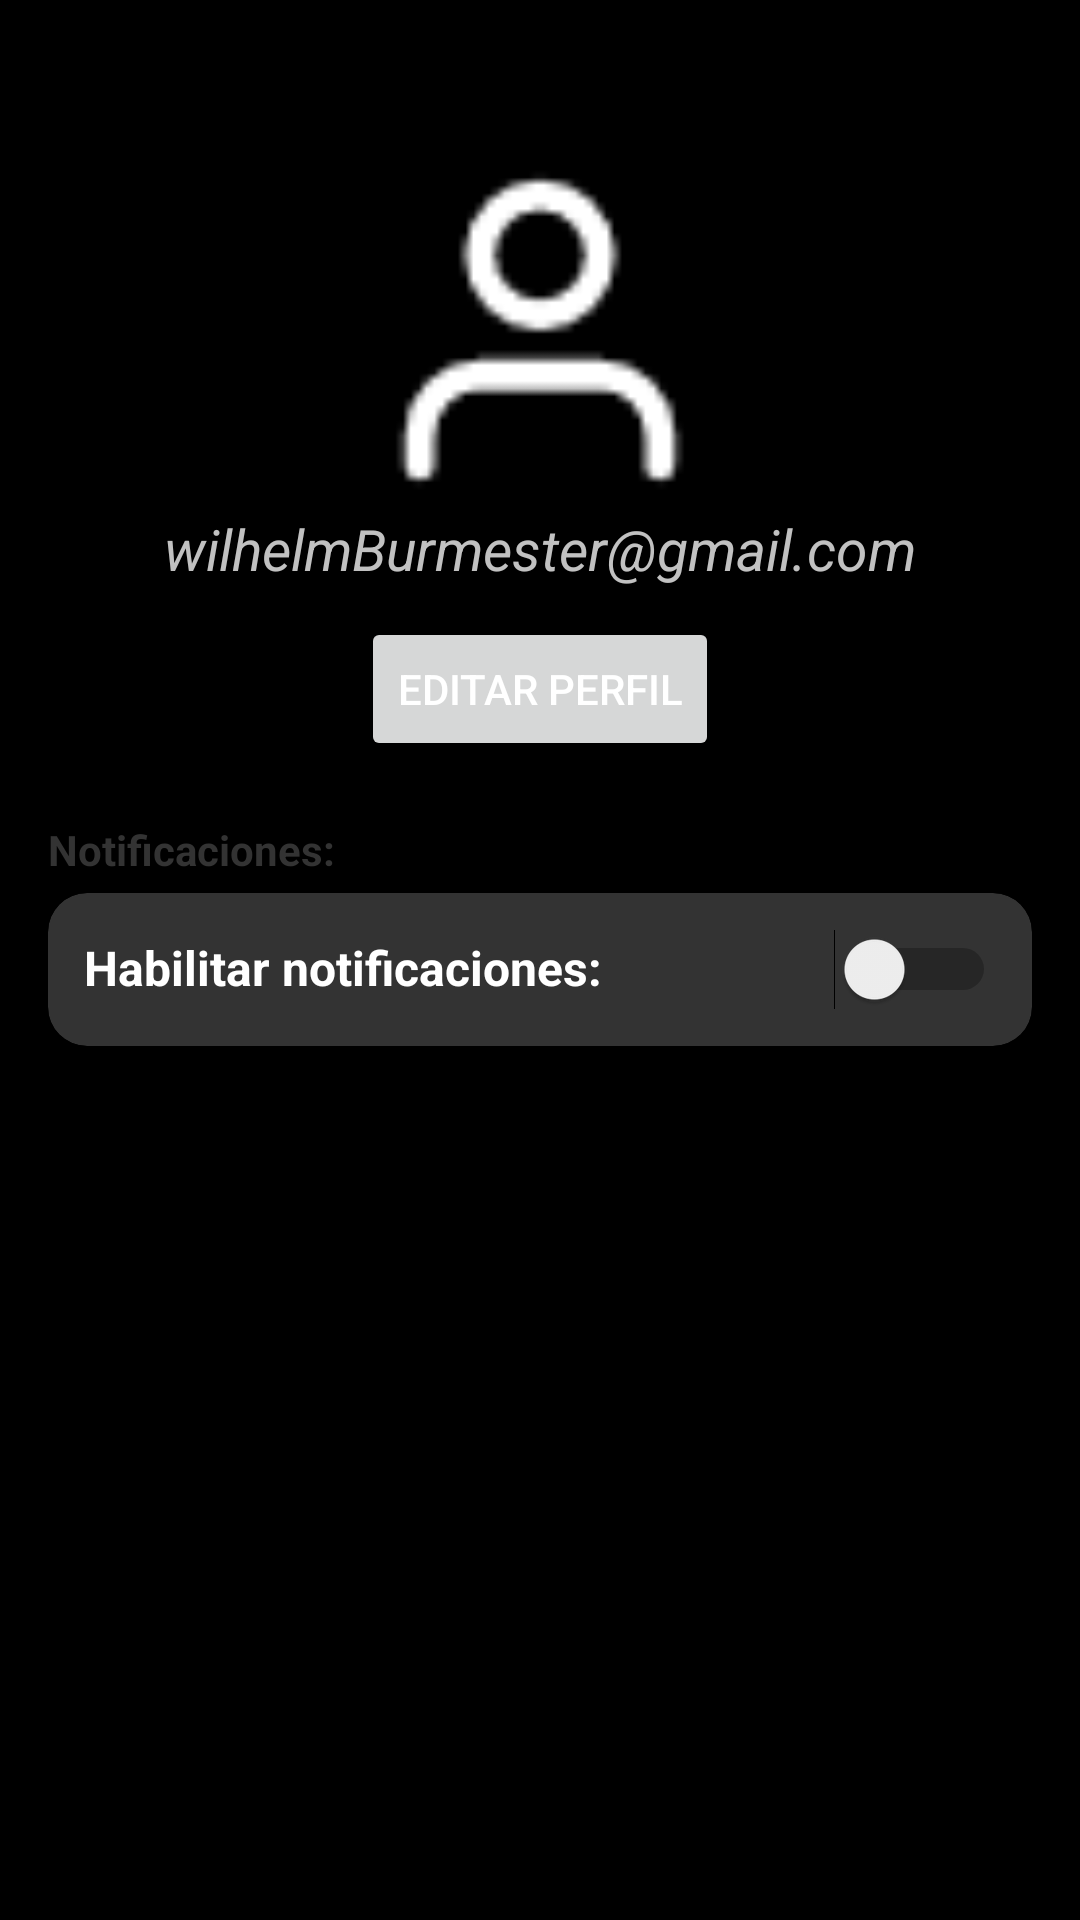

Where icons sit on this 1080 × 1920 app screen, as [x1=x1, y1=y1, x2=x2, y2=y2]:
user: [x1=398, y1=178, x2=682, y2=482]
